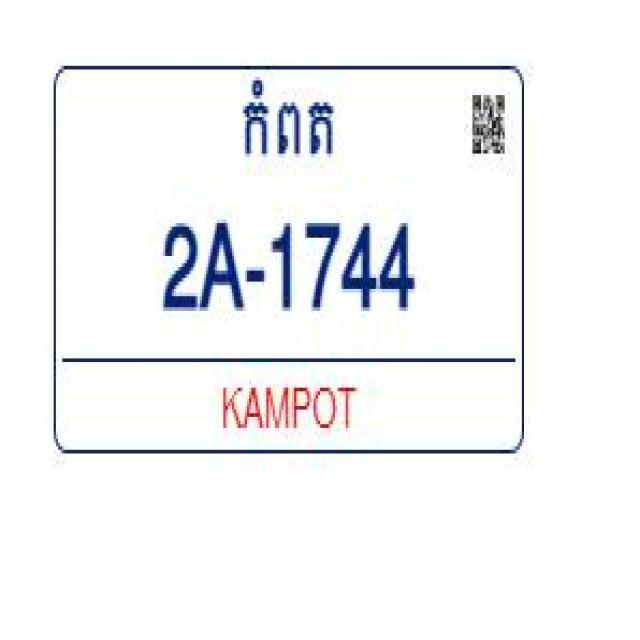Kampot: (236, 77, 336, 169)
